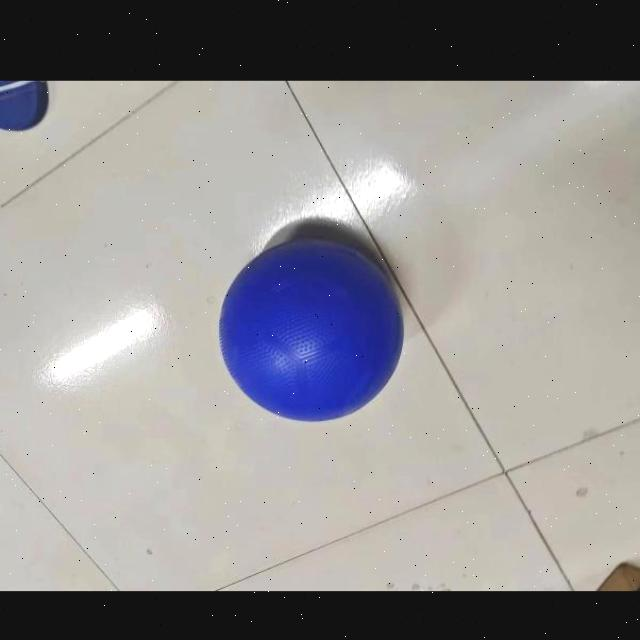B: (212, 236, 406, 422)
